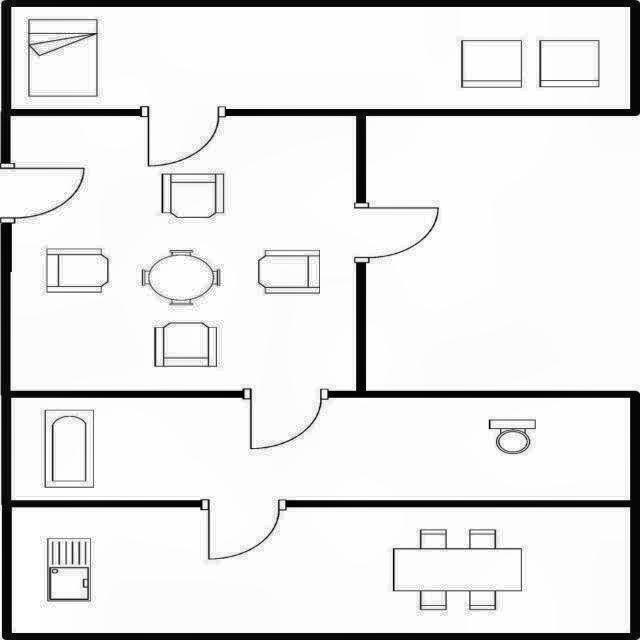room: (11, 116, 356, 391), (12, 507, 630, 633), (11, 398, 630, 500), (12, 7, 630, 109)
